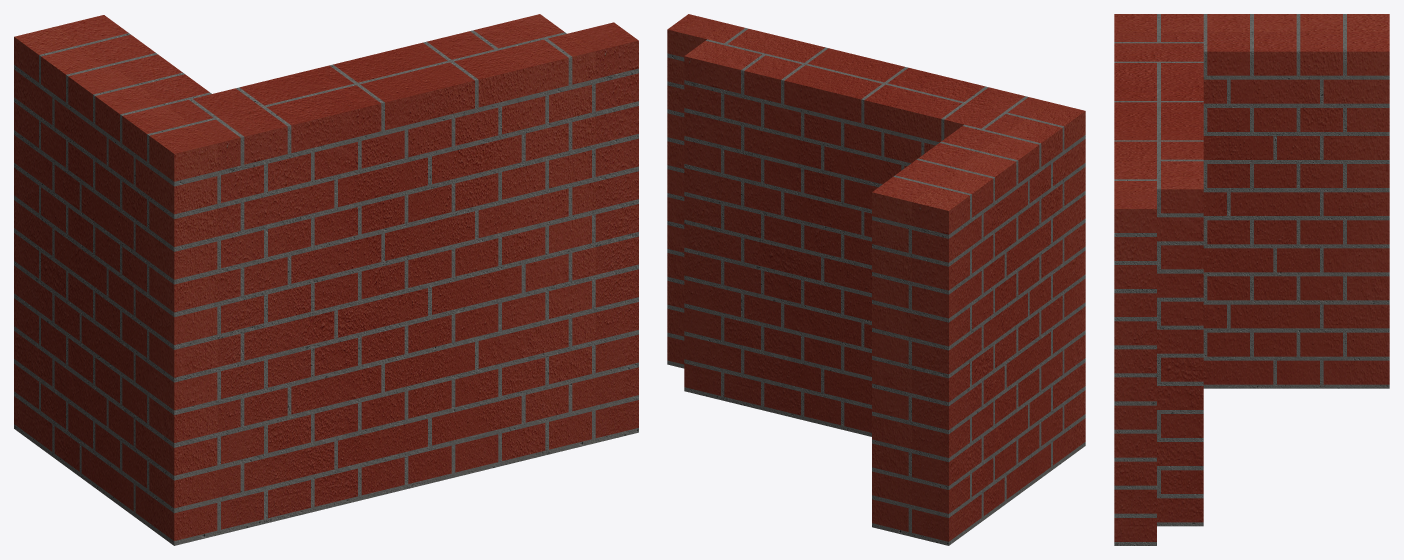
The picture shows the model from 3 angles, left to right: view 1: azimuth 30°, elevation 25°; view 2: azimuth 150°, elevation 25°; view 3: azimuth 270°, elevation 25°; orthographic projection. The views are drawn at different scales.
Parts seen in each view (by area): view 1: IfcBuildingElementProxy/BUILDINGELEMENTPROXY | Stein(61)_0; view 2: IfcBuildingElementProxy/BUILDINGELEMENTPROXY | Stein(61)_0; view 3: IfcBuildingElementProxy/BUILDINGELEMENTPROXY | Stein(61)_0.
Part boxes in pixels (x1,y1,x2,y2): IfcBuildingElementProxy/BUILDINGELEMENTPROXY | Stein(61)_0: (14,14,638,545); IfcBuildingElementProxy/BUILDINGELEMENTPROXY | Stein(61)_0: (667,14,1085,545); IfcBuildingElementProxy/BUILDINGELEMENTPROXY | Stein(61)_0: (1114,14,1389,545).
Bounding box in the file's own units: 1.23 × 0.991 × 0.7336.
Materials: 2 (2 with a texture image).
